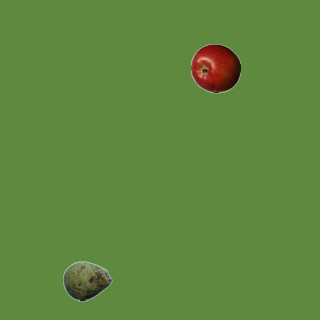Apple Braeburn: (190, 43, 240, 93)
Pear Stone: (62, 256, 112, 306)
